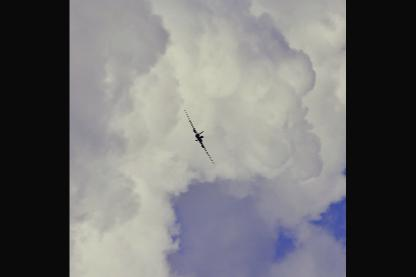Tu160: (185, 109, 216, 163)
